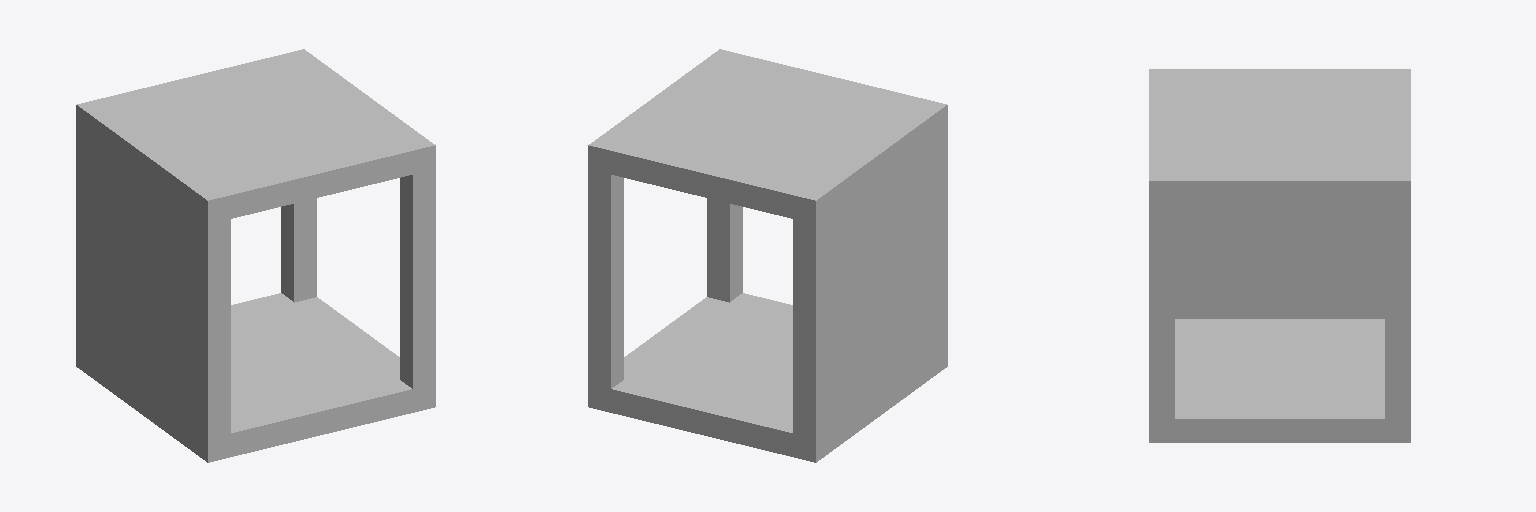
The model's file is wallSet_8.obj.
3 renders of one model, left to right at view 1: azimuth 30°, elevation 25°; view 2: azimuth 150°, elevation 25°; view 3: azimuth 270°, elevation 25°, orthographic.
Visible parts, largest first — view 1: wallSet_8_Cube.001; view 2: wallSet_8_Cube.001; view 3: wallSet_8_Cube.001.
Part boxes in pixels (left/top/right/bottom): wallSet_8_Cube.001: left=76, top=49, right=435, bottom=462; wallSet_8_Cube.001: left=588, top=49, right=947, bottom=462; wallSet_8_Cube.001: left=1149, top=69, right=1410, bottom=442.
Bounding box in the file's own units: 2 × 2.2 × 2.